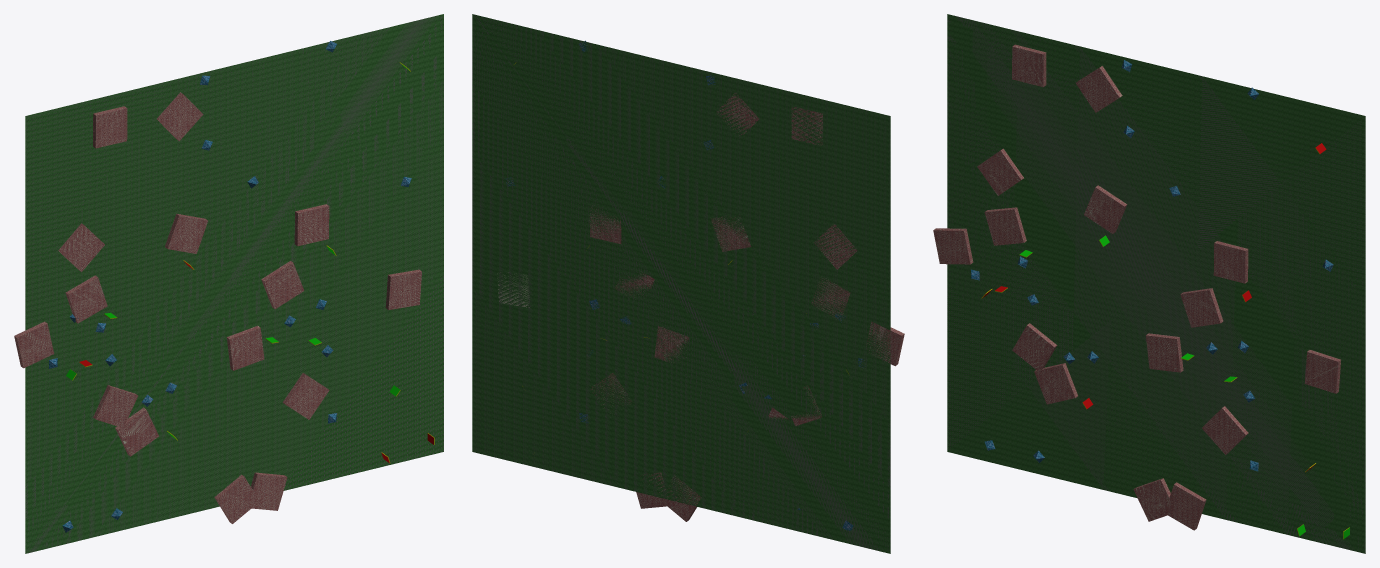
File: bzworld_tex.dae
3 views of the same model, side by side, from view 1: azimuth 30°, elevation 25°; view 2: azimuth 150°, elevation 25°; view 3: azimuth 330°, elevation 25° (orthographic).
Parts seen in each view (by area): view 1: skp26F2 (×16); view 2: skp26F2 (×10); view 3: skp26F2 (×16).
Boxes of the visible parts, x1,y1,x2,y2 form: skp26F2 (×16): (17,14,443,553); skp26F2 (×10): (472,14,901,553); skp26F2 (×16): (933,14,1365,553).
Bounding box in the file's own units: 32346 × 838 × 32871.
10 materials, 3 textured.
